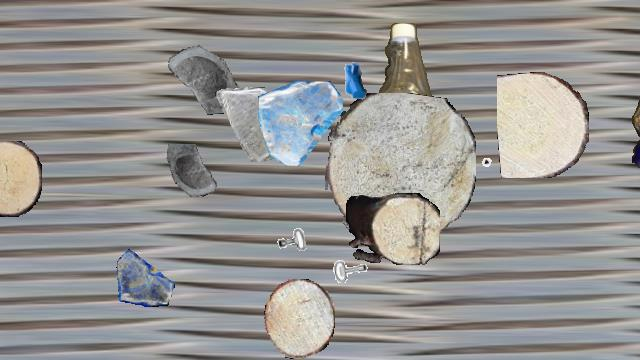glass: (258, 81, 342, 165), (158, 32, 240, 114), (214, 87, 288, 161), (163, 144, 225, 206), (116, 248, 174, 306)
metal: (263, 195, 323, 255), (326, 51, 382, 107), (330, 255, 376, 301), (478, 156, 518, 196)
plastic: (358, 23, 440, 221), (630, 77, 640, 167)
wood: (325, 93, 475, 245), (497, 72, 589, 178), (346, 193, 440, 265), (264, 279, 334, 359), (0, 141, 41, 217)
